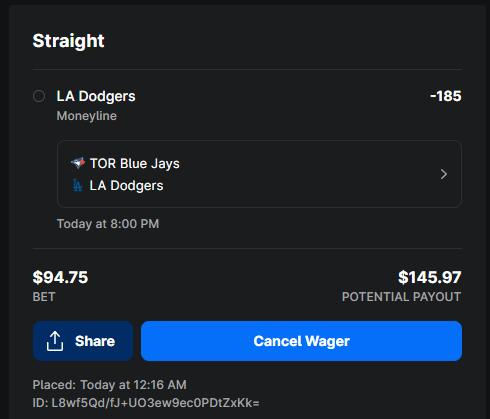game: (88, 156, 182, 195)
odds: (429, 85, 464, 105)
payout: (398, 268, 464, 287)
wager: (31, 268, 90, 288)
